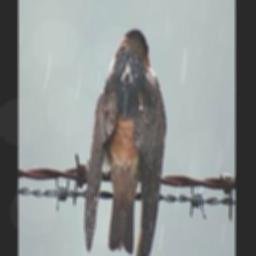Swallow: (82, 27, 167, 256)
